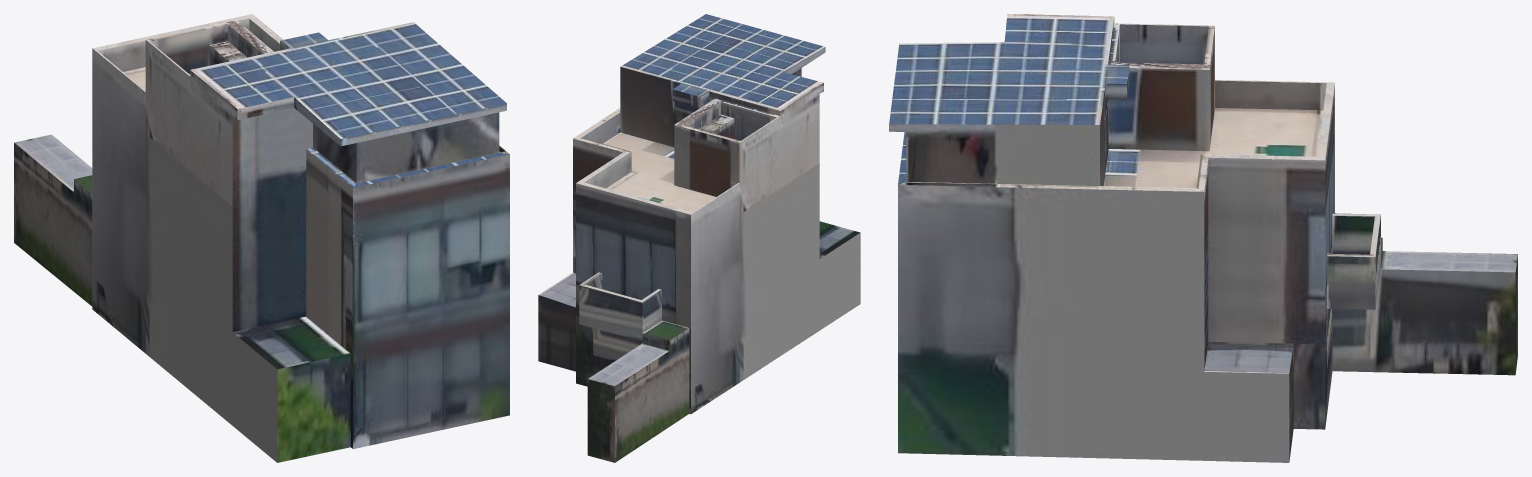
The picture shows the model from 3 angles, left to right: view 1: azimuth 30°, elevation 25°; view 2: azimuth 150°, elevation 25°; view 3: azimuth 270°, elevation 25°; orthographic projection. The views are drawn at different scales.
Visible parts, largest first — view 1: B283614030601062A0; view 2: B283614030601062A0; view 3: B283614030601062A0.
Part boxes in pixels (x1=…): B283614030601062A0: x1=14, y1=14, x2=509, y2=462; B283614030601062A0: x1=538, y1=14, x2=860, y2=462; B283614030601062A0: x1=889, y1=14, x2=1517, y2=462.
Bounding box in the file's own units: 8.86 × 11.32 × 19.52.
Materials: 2 (2 with a texture image).
